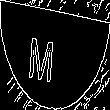M_N: (41, 27, 69, 83)
